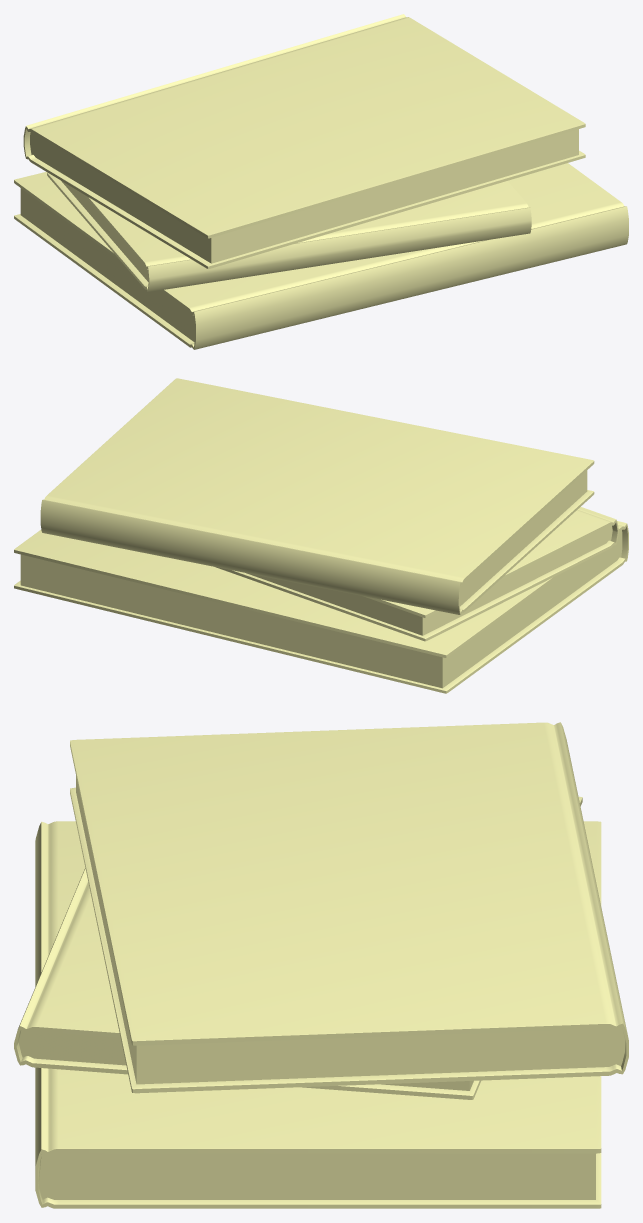
The model's file is MangaKa Props - A_R_Books_08.glb.
3 renders of one model, top to bottom at view 1: azimuth 30°, elevation 25°; view 2: azimuth 150°, elevation 25°; view 3: azimuth 270°, elevation 25°, orthographic. The views are drawn at different scales.
Parts seen in each view (by area): view 1: A_R_Books_08_blueScreen; view 2: A_R_Books_08_blueScreen; view 3: A_R_Books_08_blueScreen.
Boxes of the visible parts, x1,y1,x2,y2 form: A_R_Books_08_blueScreen: (14, 14, 628, 349); A_R_Books_08_blueScreen: (14, 378, 628, 693); A_R_Books_08_blueScreen: (14, 722, 628, 1208).
Size of the model in its own units: 0.387 by 0.0841 by 0.2946.
